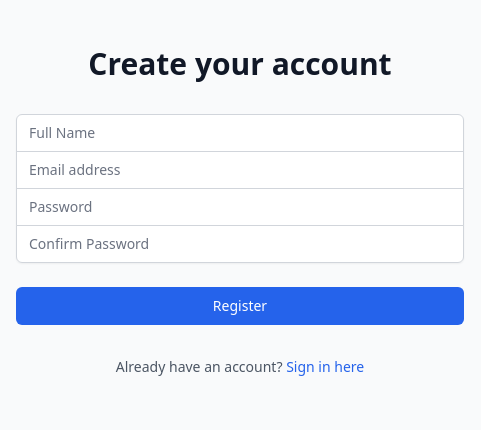
Test case: Register Component › handles registration error from server
Type "John Doe" into the field with placeholder "Full Name".
click(240, 132); type("John Doe")  # box top-left (16, 114), bottom-right (464, 152)
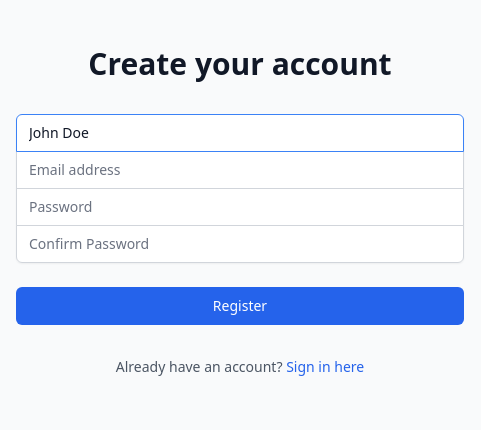
Type "john@example.com" into the field with placeholder "Email address".
click(240, 170); type("john@example.com")  # box top-left (16, 150), bottom-right (464, 188)
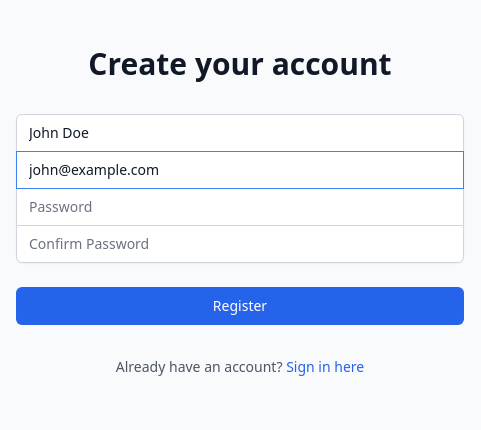
Type "password123" into the password field with placeholder "Password".
click(240, 206); type("password123")  # box top-left (16, 188), bottom-right (464, 226)
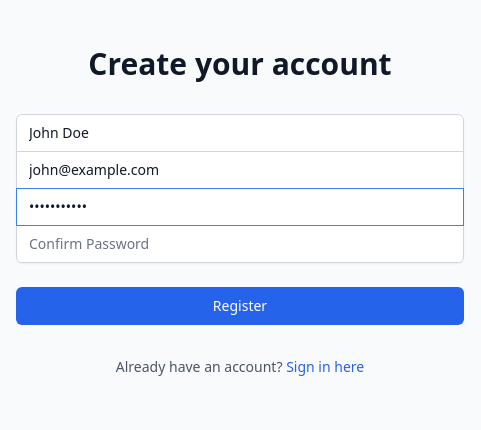
Type "password123" into the password field with placeholder "Confirm Password".
click(240, 244); type("password123")  # box top-left (16, 224), bottom-right (464, 262)
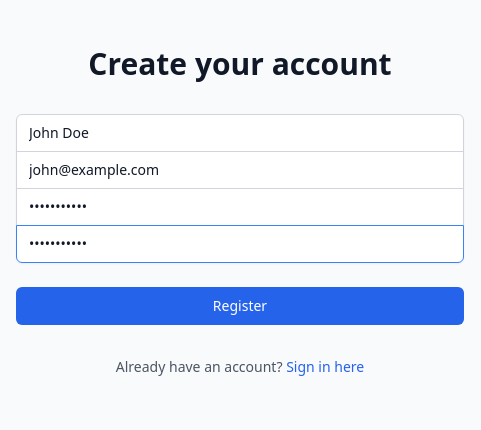
Click the button "Register".
click(240, 306)  # box top-left (16, 286), bottom-right (464, 324)
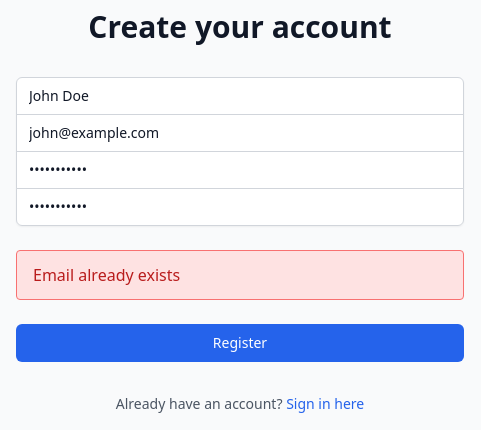
Now the text "Email already exists" is shown, box top-left (16, 250), bottom-right (464, 300)
